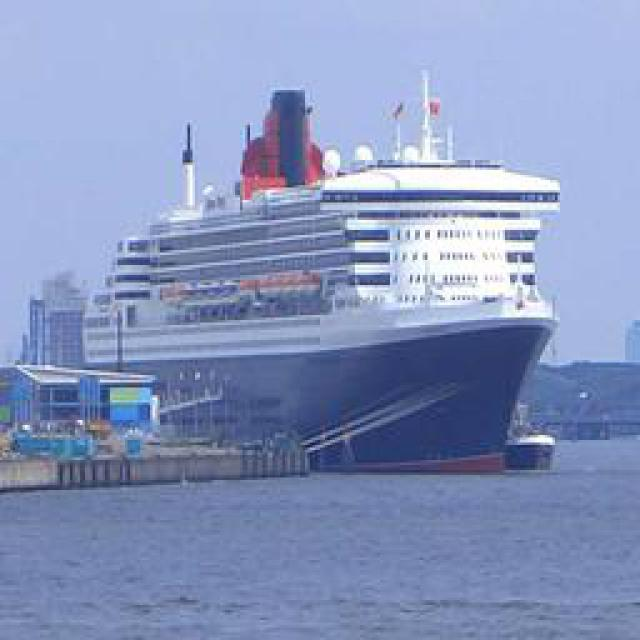Ship: (55, 75, 565, 470)
